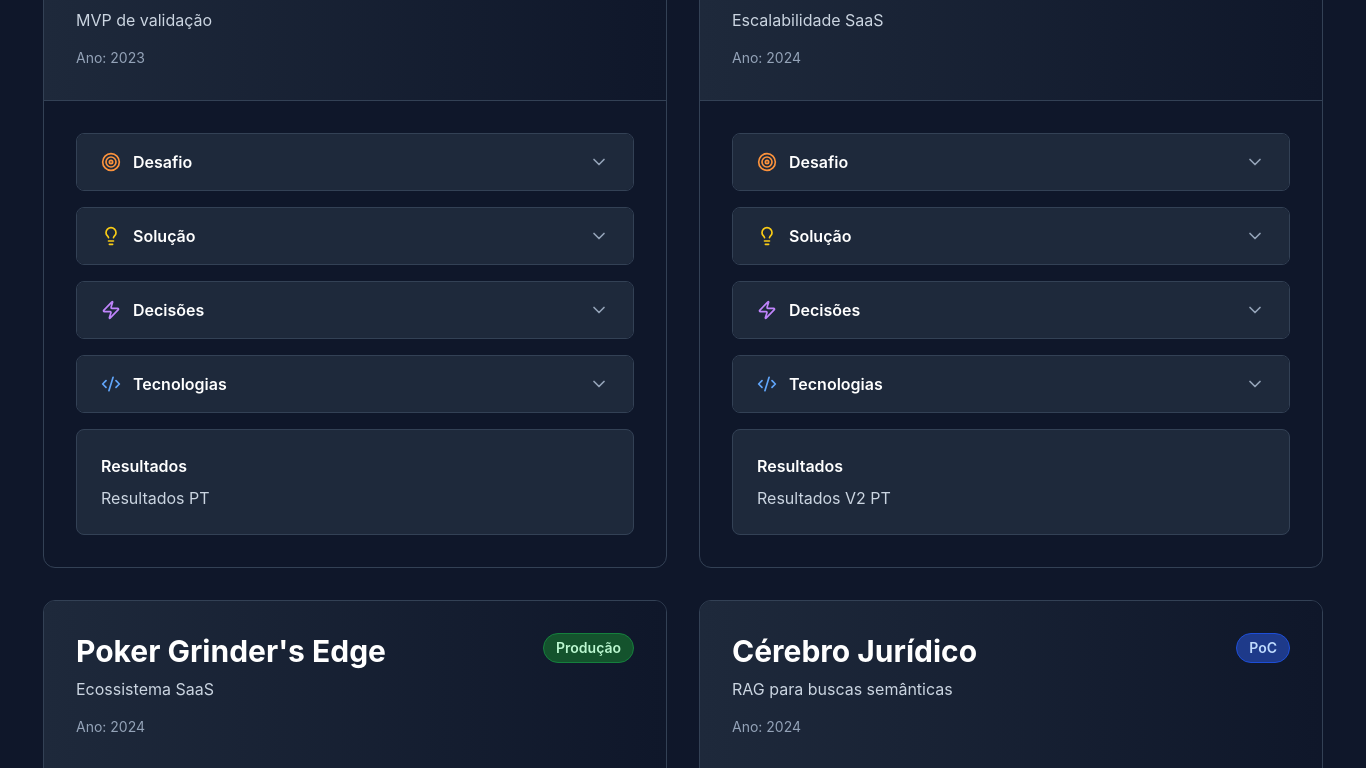
Test: Blueprint Component › Expand/Collapse Sections › should expand technologies section
(page scrolled)
What coordinates should you click on to do the following:
click the button "Tecnologias" below "2023"
I would click on:
 (180, 384)
Its box is [77,356,633,412].
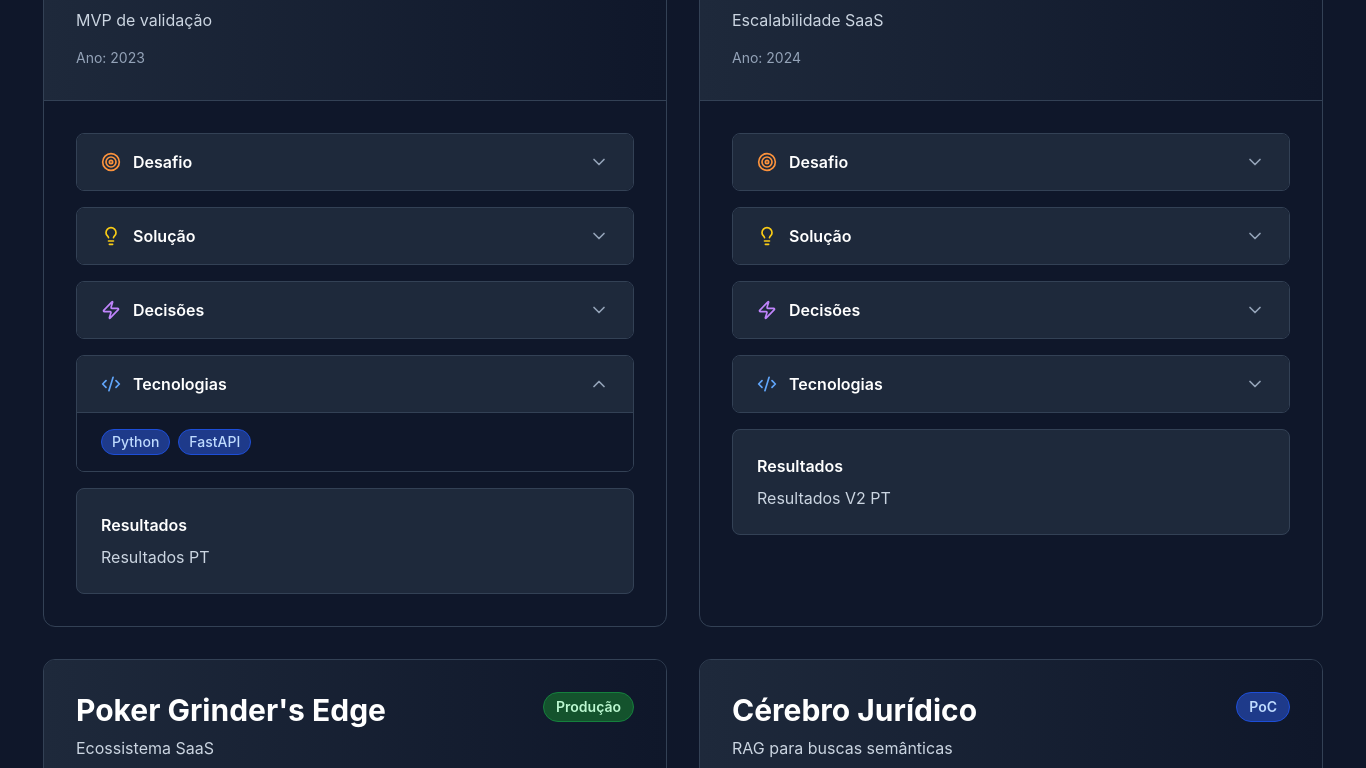
Expected: the text "Python" is shown, [101,429,170,455]
Expected: the text "FastAPI" is shown, [178,429,251,455]
